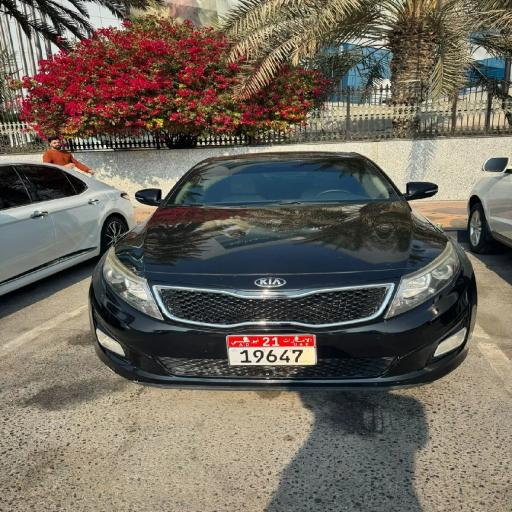license-plates: (226, 334, 317, 366)
